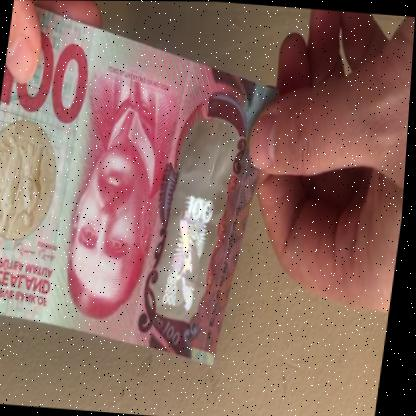100F: (163, 137, 236, 314)
